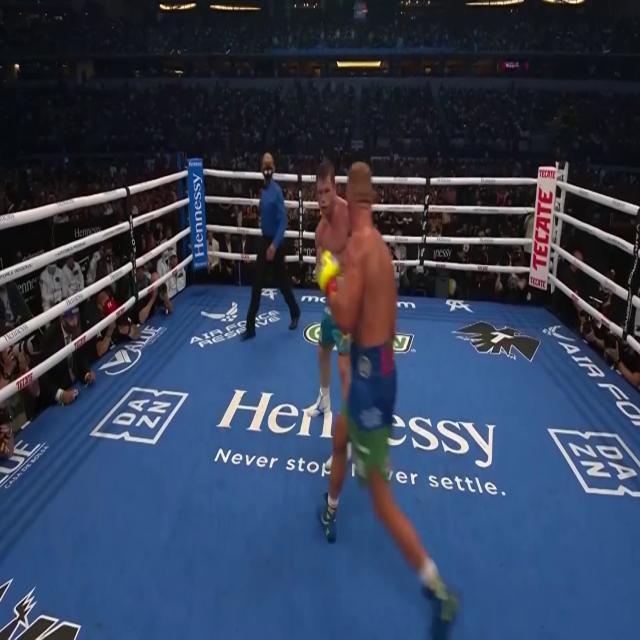boxer_1: (345, 161, 397, 347)
boxer_2: (316, 159, 350, 266)
gloves_1: (318, 249, 340, 294)
